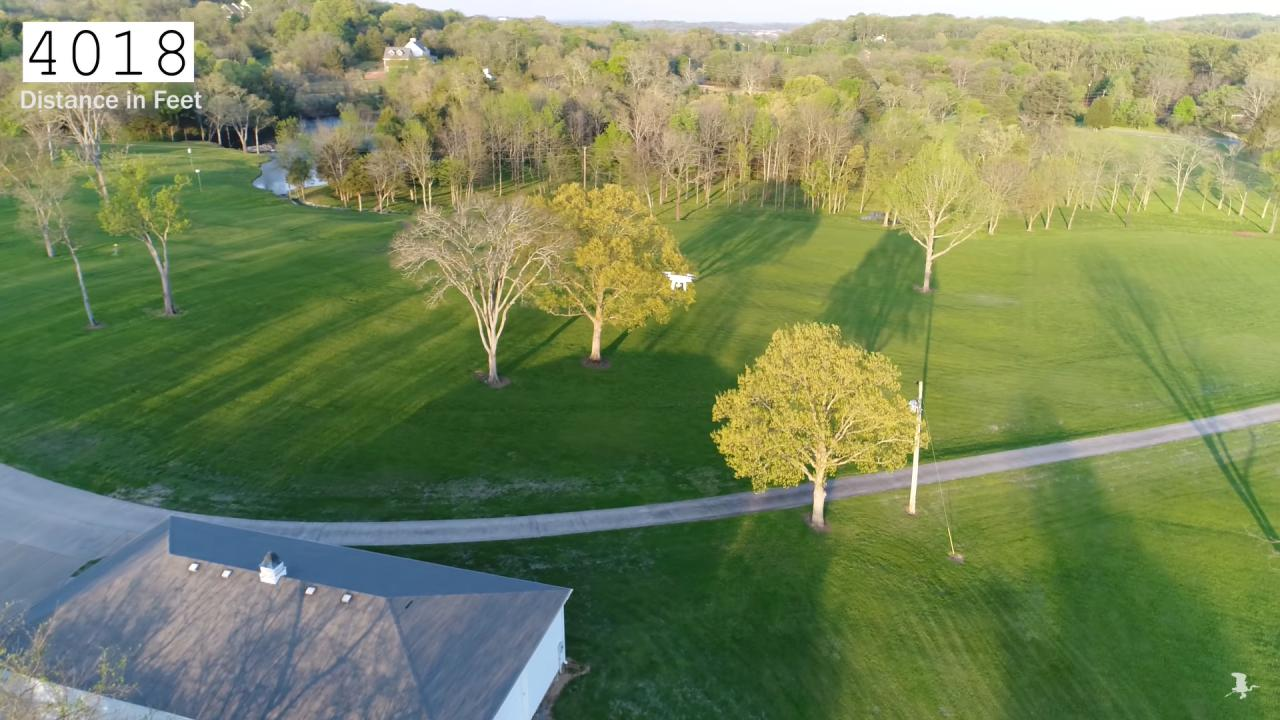Drone: (654, 262, 704, 297)
